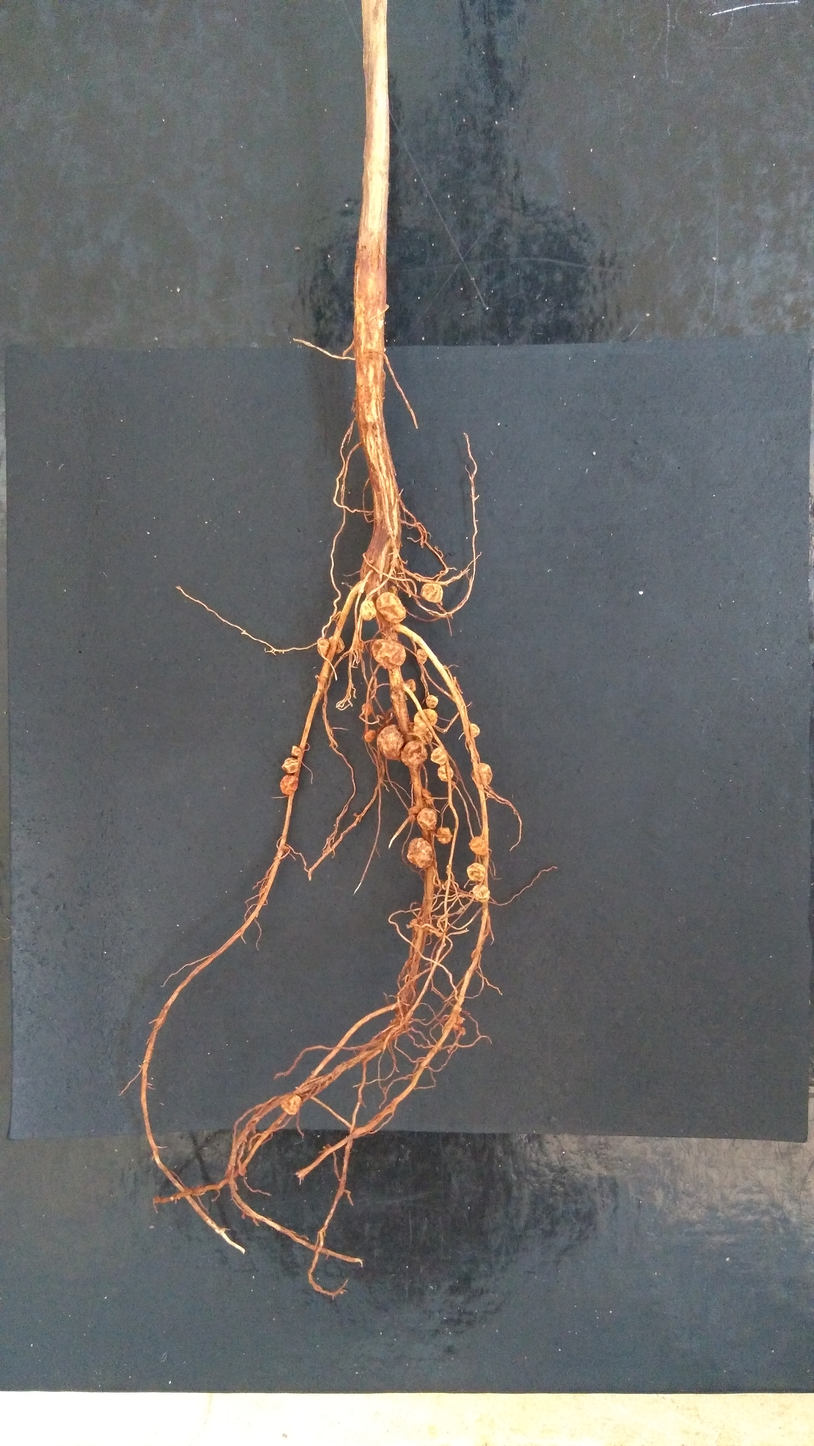nodule: (369, 639, 408, 671), (374, 590, 408, 625), (376, 723, 405, 762), (405, 835, 435, 871), (399, 738, 429, 769), (469, 762, 494, 788), (418, 582, 445, 605), (467, 833, 490, 858), (415, 807, 438, 831), (279, 1093, 303, 1116), (464, 860, 487, 883), (469, 882, 492, 905), (413, 708, 438, 729), (358, 598, 378, 622), (279, 773, 299, 796), (327, 633, 347, 655), (429, 745, 449, 766), (412, 725, 434, 743), (314, 635, 330, 659), (436, 764, 455, 783), (280, 756, 299, 774), (436, 826, 454, 845), (414, 646, 430, 666), (421, 788, 434, 808), (362, 728, 377, 744), (360, 702, 376, 717), (424, 693, 439, 708), (468, 722, 481, 738), (290, 744, 303, 757), (405, 679, 417, 693)
